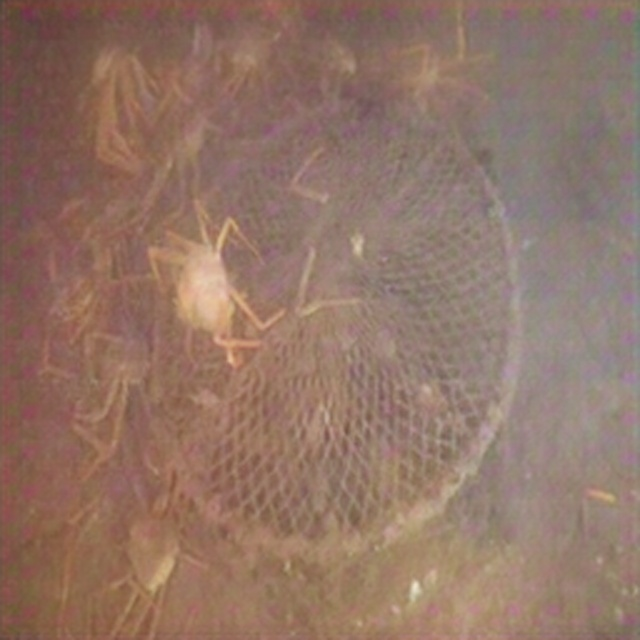mine: (159, 98, 524, 572)
